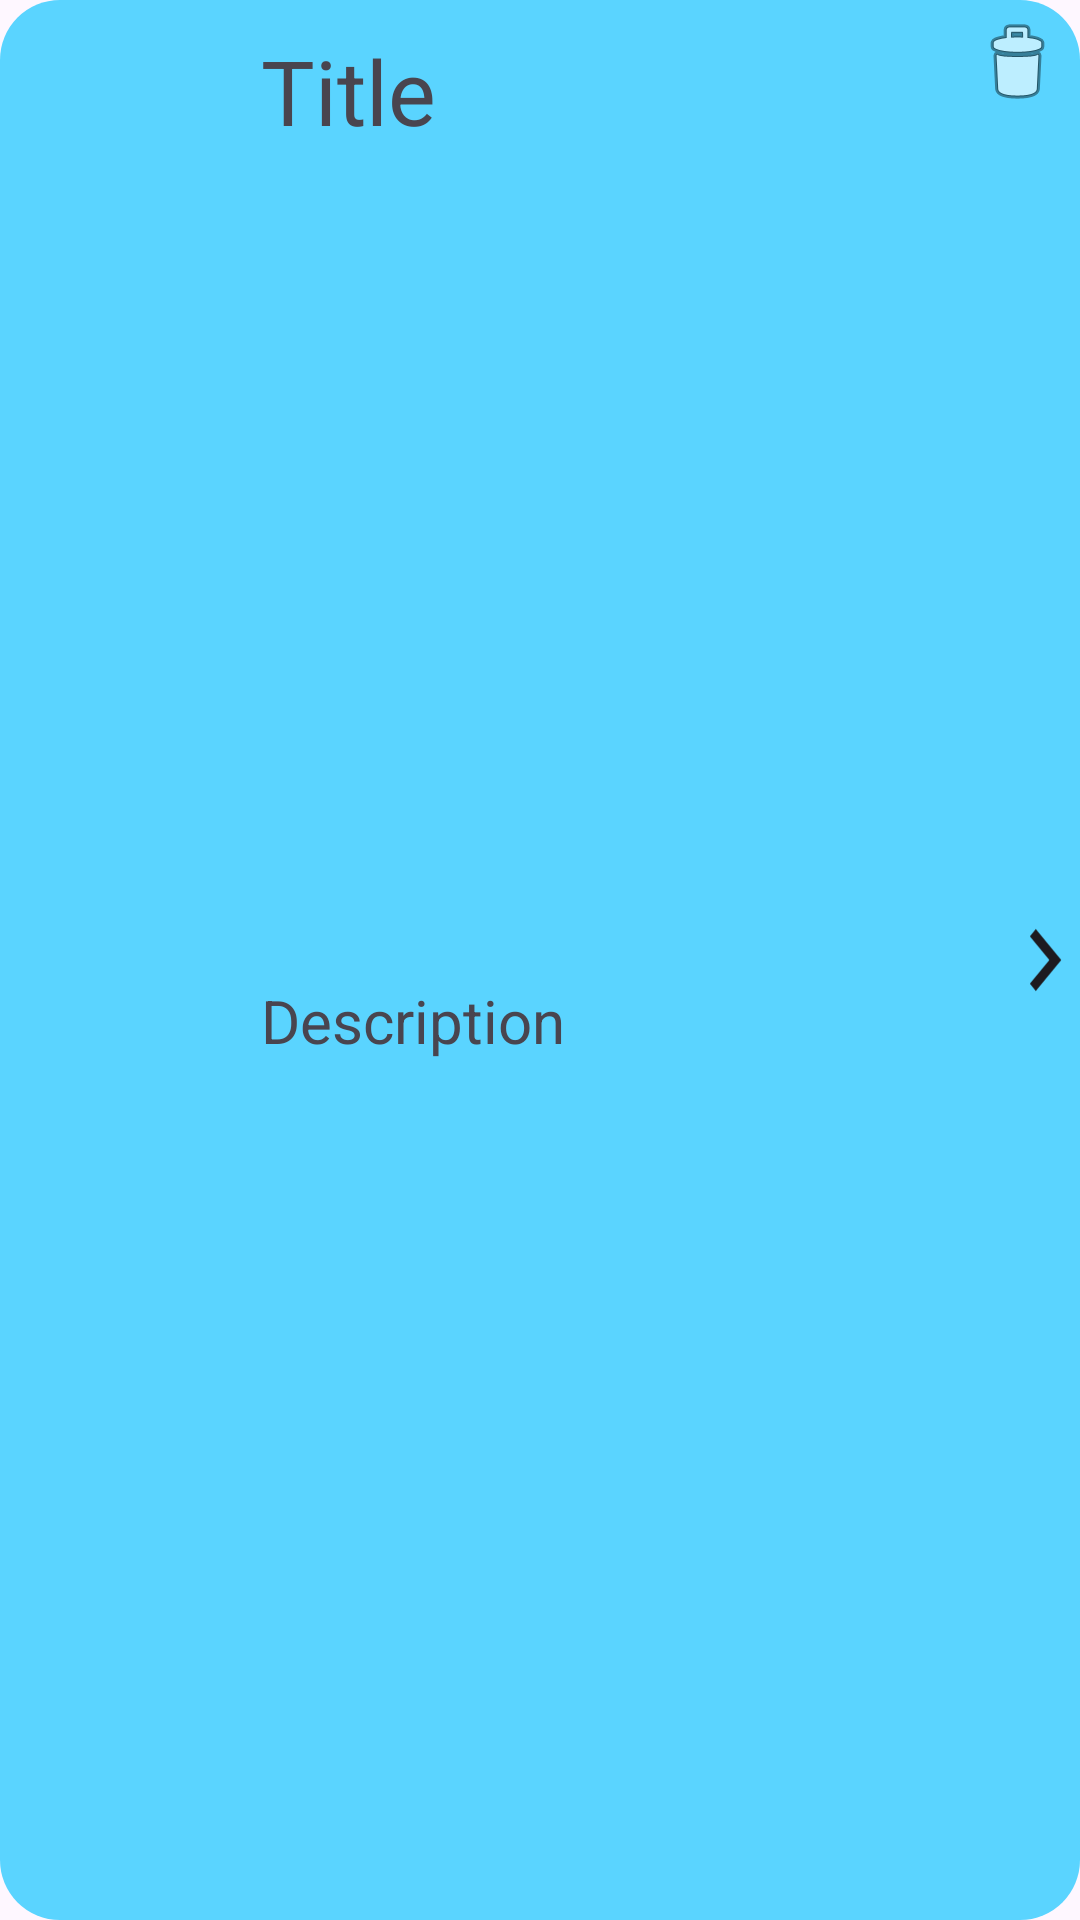

Where to tap for icons on this 1080px x 1920px app screen, as (x=x, y=y):
delete: (x=1035, y=49)
navigate next: (x=1045, y=960)
